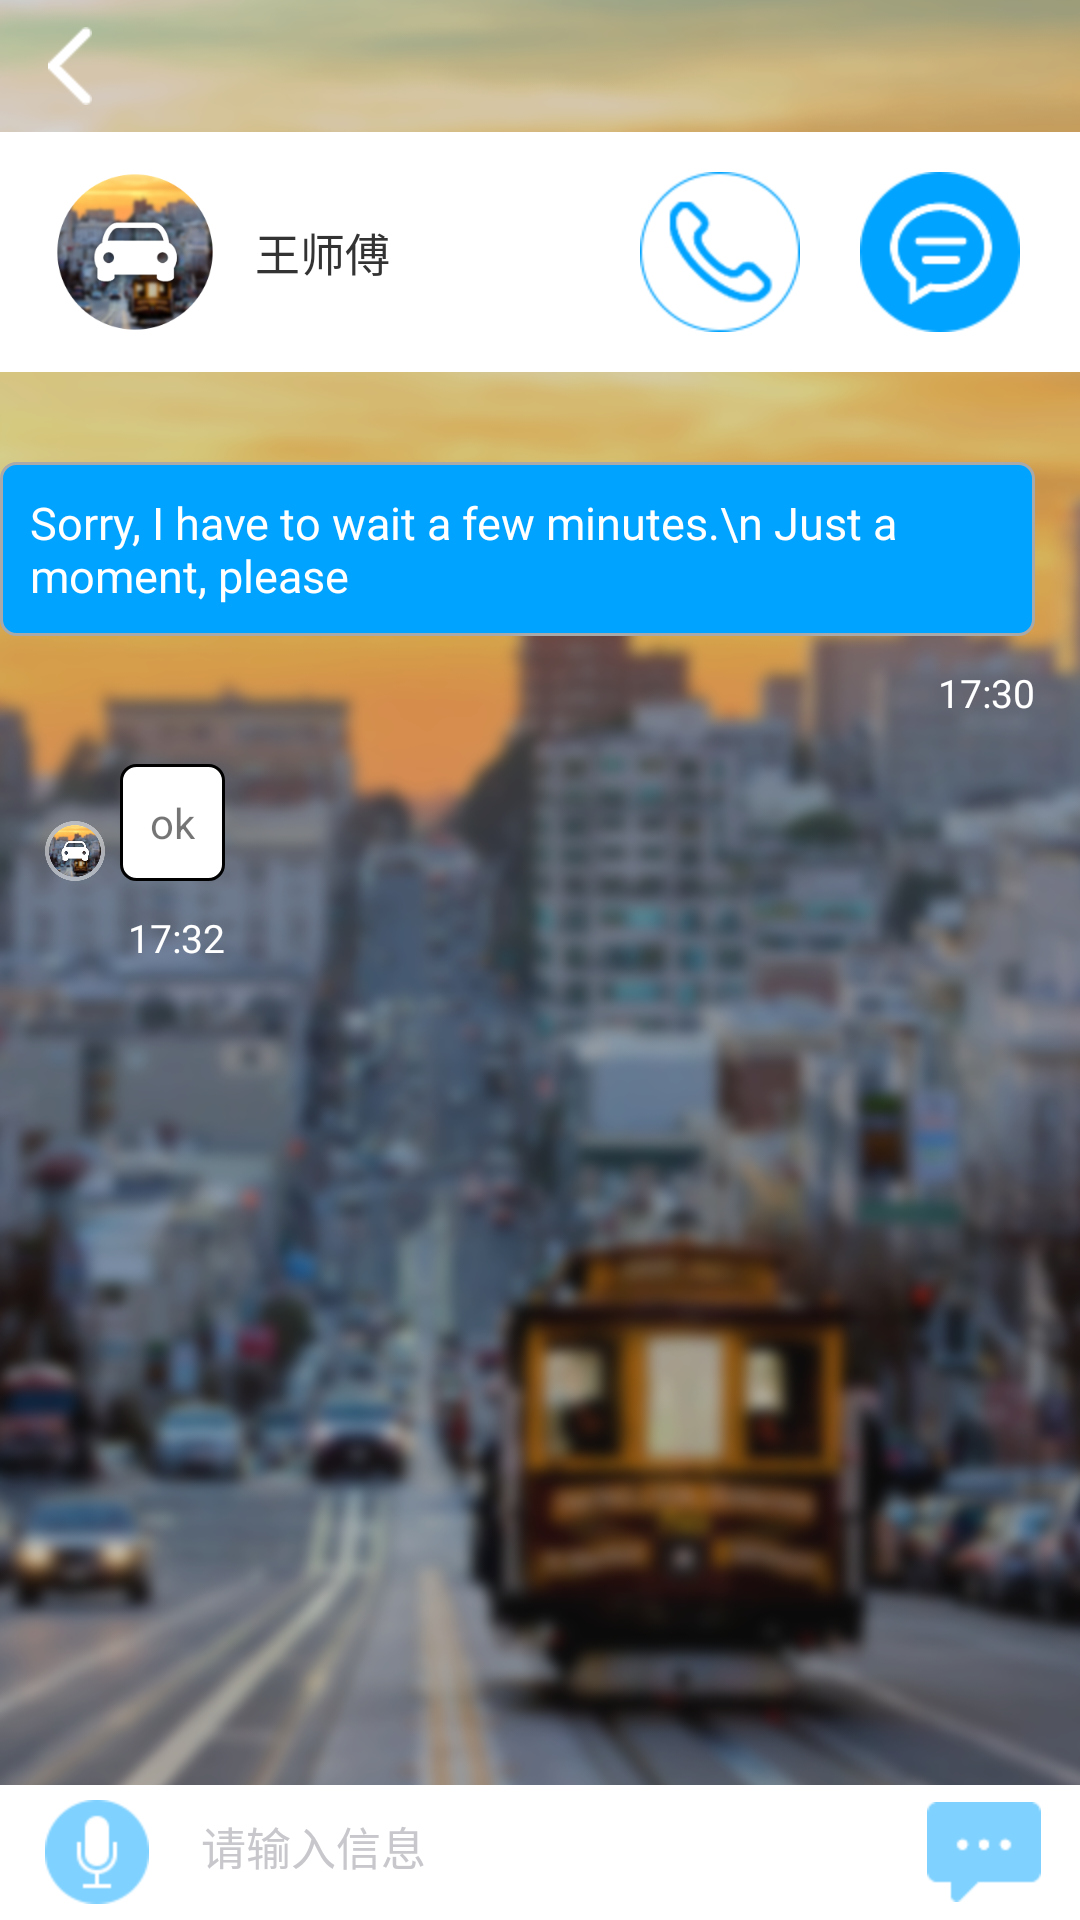

Where to tap for icons on this 1080x1920 app screen, as (x,y):
back: (70,66)
